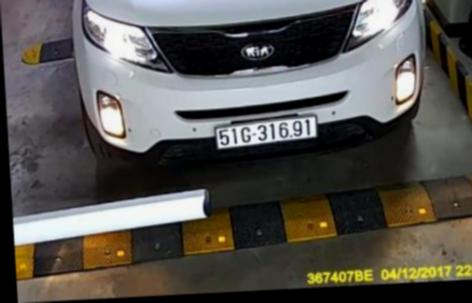License_Plate: (212, 113, 325, 152)
